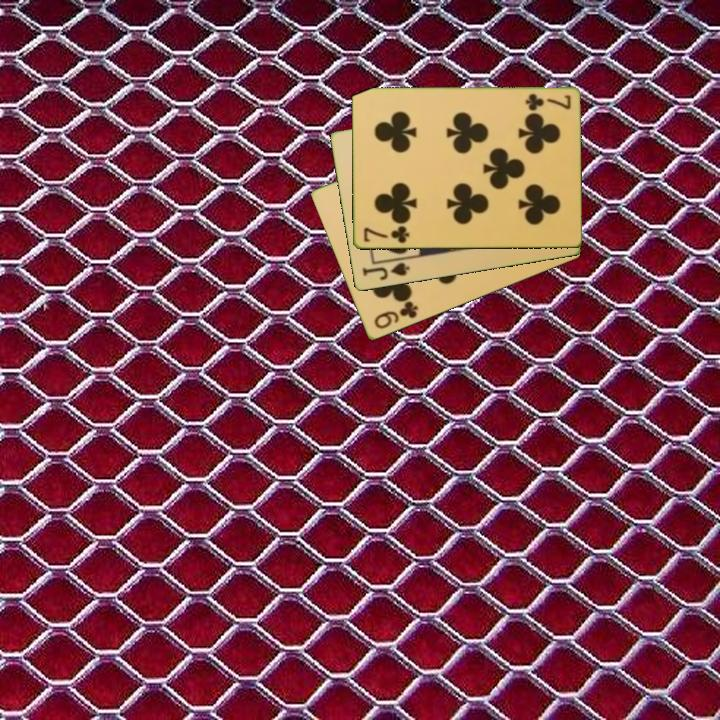7c: (360, 223, 412, 246), (522, 90, 573, 113)
9c: (370, 298, 421, 332)
Js: (359, 259, 412, 283)
